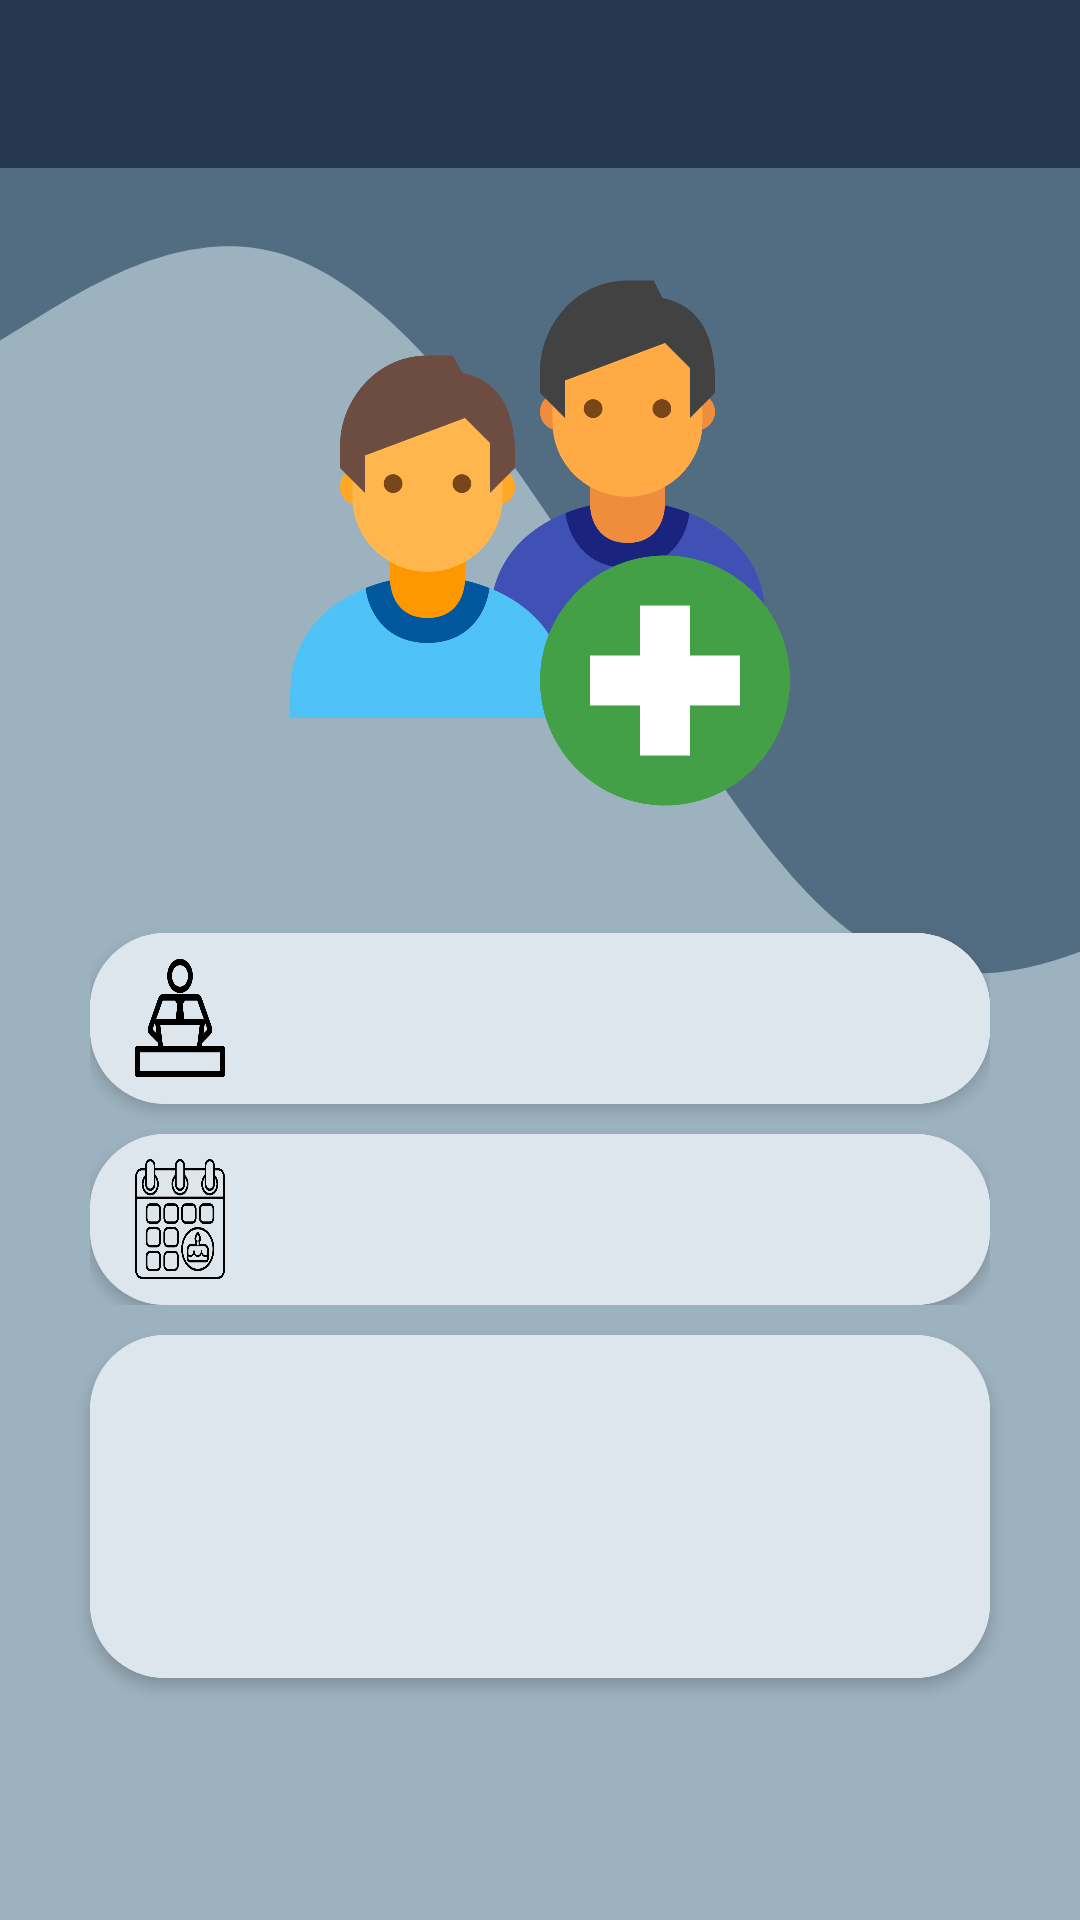

Named icons in this screenshot (1080px x 1920px) and their bounding boxes, [x1=x1, y1=y1, x2=x2, y2=y2]:
age: [x1=135, y1=1159, x2=225, y2=1279]
job: [x1=135, y1=959, x2=225, y2=1077]
